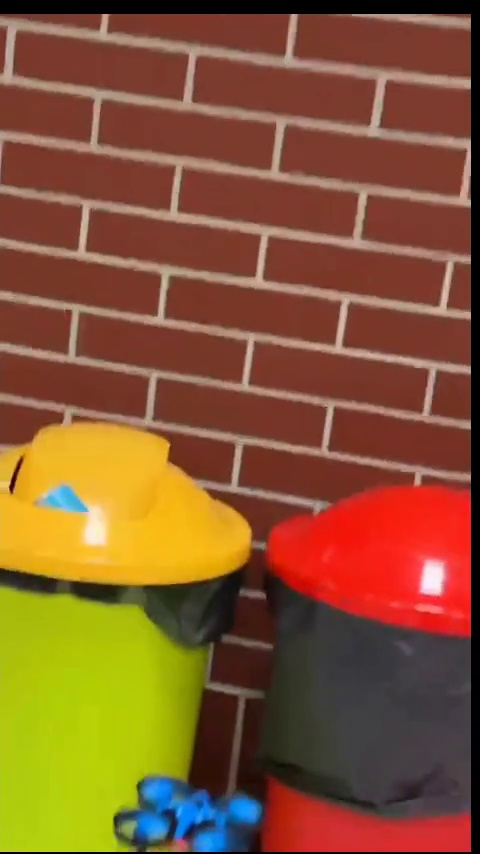drone: (115, 777, 263, 852)
